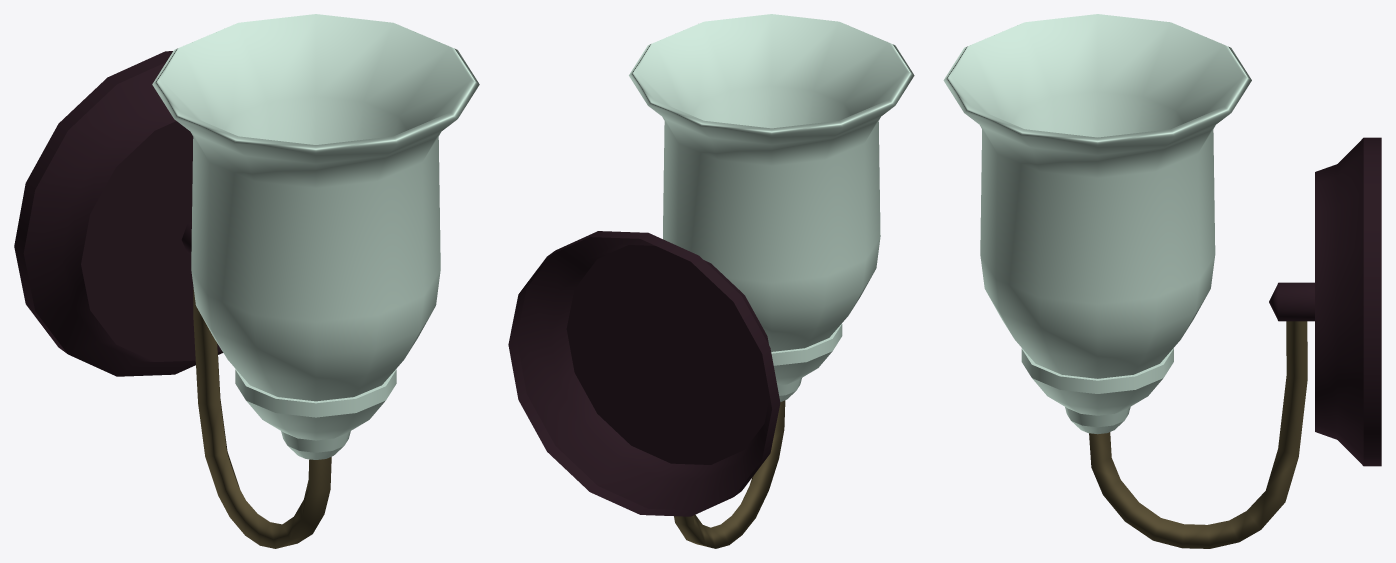
The model's file is InteriorWallLight.glb.
3 renders of one model, left to right at view 1: azimuth 30°, elevation 25°; view 2: azimuth 150°, elevation 25°; view 3: azimuth 270°, elevation 25°, orthographic. The views are drawn at different scales.
Parts seen in each view (by area): view 1: b_low, a_low, c_low; view 2: b_low, a_low, c_low; view 3: b_low, a_low, c_low, d_low.
Part boxes in pixels (x1,y1,x2,y2): b_low: (152,14,479,459); a_low: (14,51,223,376); c_low: (193,288,331,548); b_low: (629,14,914,401); a_low: (508,231,780,516); c_low: (674,400,785,548); b_low: (943,14,1251,434); a_low: (1315,137,1381,466); c_low: (1089,321,1307,548); d_low: (1269,282,1314,321).
Size of the model in its own units: 0.5486 by 0.8615 by 0.7306.
